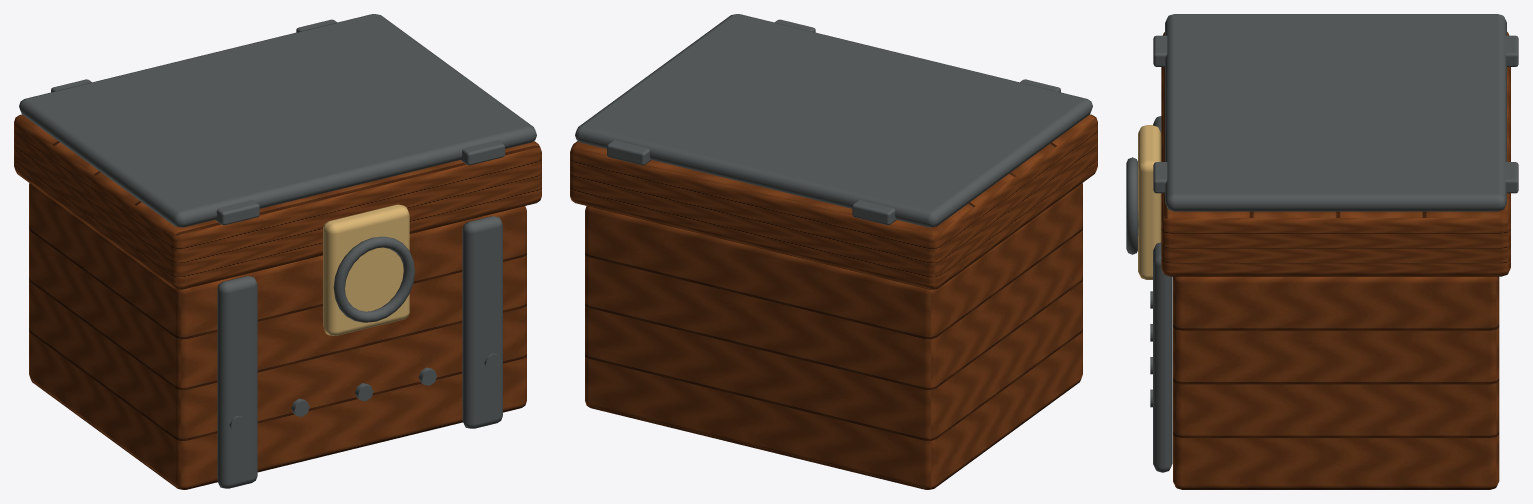
File: adventurers-tavern-and-guild-hall-guild-strongbox-3e8394b0__24747.glb
3 views of the same model, side by side, from view 1: azimuth 30°, elevation 25°; view 2: azimuth 150°, elevation 25°; view 3: azimuth 270°, elevation 25° (orthographic). The views are drawn at different scales.
Parts seen in each view (by area): view 1: guild-strongbox, lid (×2); view 2: guild-strongbox, lid (×2); view 3: guild-strongbox, lid (×2).
Part boxes in pixels (x1,y1,x2,y2): guild-strongbox: [19, 14, 536, 489]; lid (×2): [14, 19, 541, 289]; guild-strongbox: [575, 14, 1092, 489]; lid (×2): [570, 19, 1097, 289]; guild-strongbox: [1126, 14, 1506, 489]; lid (×2): [1153, 32, 1518, 276].
Bounding box in the file's own units: 0.58 × 0.425 × 0.505.
Materials: 3 (1 with a texture image).
